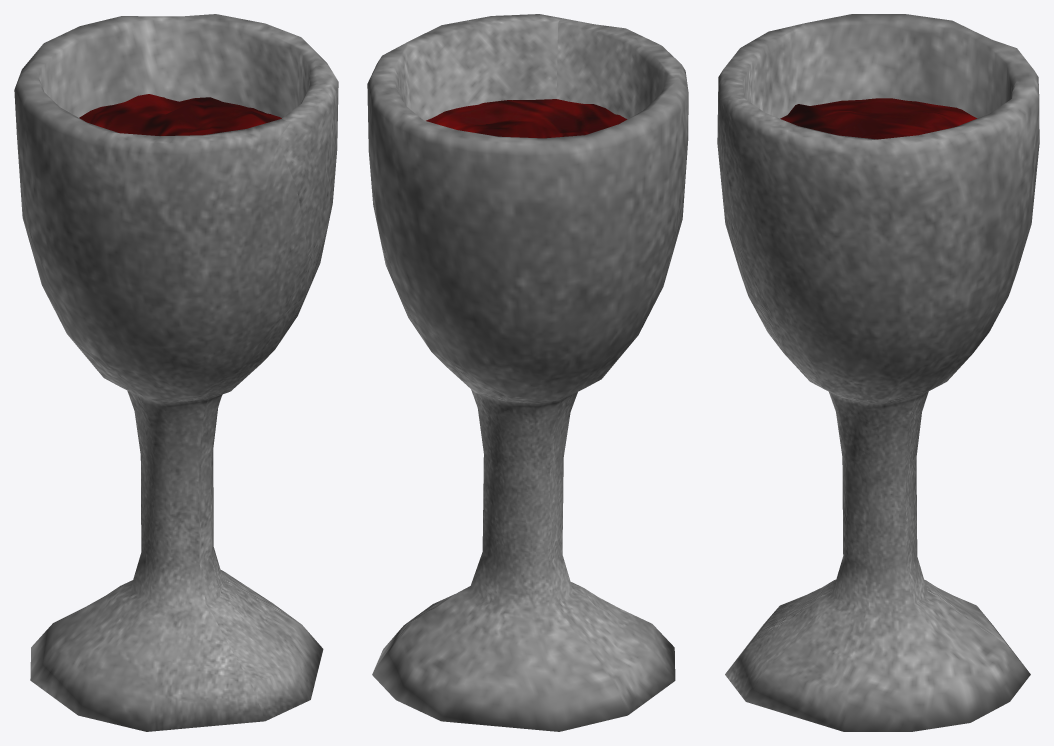
Rendered from Chalice_Ritual_item.fbx.
The picture shows the model from 3 angles, left to right: view 1: azimuth 30°, elevation 25°; view 2: azimuth 150°, elevation 25°; view 3: azimuth 270°, elevation 25°; orthographic projection.
Visible parts, largest first — view 1: Blood_Chalice; view 2: Blood_Chalice; view 3: Blood_Chalice.
Boxes of the visible parts, x1,y1,x2,y2 form: Blood_Chalice: (14, 14, 338, 731); Blood_Chalice: (367, 14, 688, 731); Blood_Chalice: (717, 14, 1039, 731).
Size of the model in its own units: 200 by 405 by 200.
